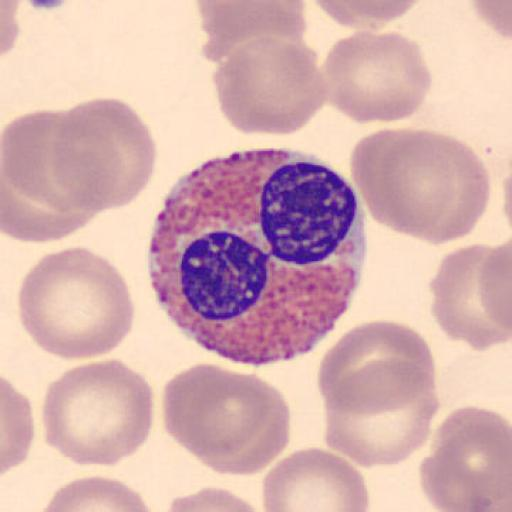RBC: (352, 128, 493, 246), (161, 361, 293, 477), (0, 109, 105, 244), (16, 245, 136, 362), (321, 357, 441, 470), (39, 357, 156, 468), (348, 126, 456, 242), (51, 95, 158, 212), (211, 34, 331, 138), (317, 318, 437, 421), (397, 128, 492, 246), (320, 29, 434, 126), (2, 107, 95, 216), (420, 403, 512, 512), (428, 243, 512, 351), (195, 0, 308, 68), (262, 444, 371, 512), (2, 172, 98, 244), (465, 238, 512, 352), (197, 0, 309, 45), (418, 447, 491, 512), (36, 474, 156, 512), (478, 237, 512, 351), (2, 375, 36, 476), (311, 0, 426, 27), (164, 485, 270, 512), (206, 0, 312, 23), (471, 0, 512, 41), (0, 0, 23, 59)
WBC: (144, 154, 368, 366)
